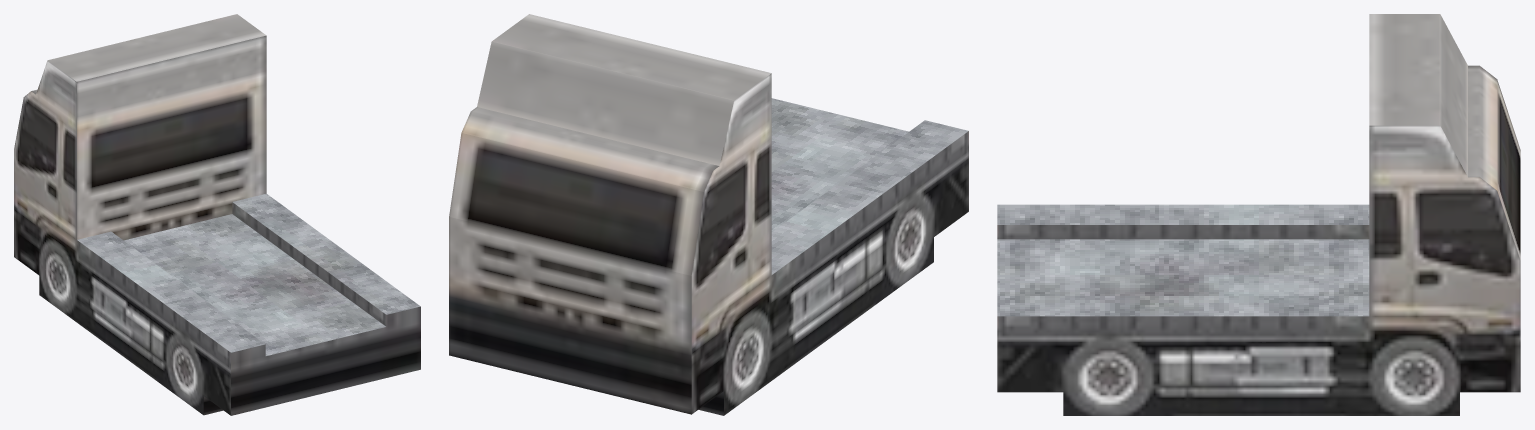
File: kenney-retro-urban-truck-flat.glb
3 renders of one model, left to right at view 1: azimuth 30°, elevation 25°; view 2: azimuth 150°, elevation 25°; view 3: azimuth 270°, elevation 25°, orthographic. The views are drawn at different scales.
Parts seen in each view (by area): view 1: truck-flat; view 2: truck-flat; view 3: truck-flat.
Part boxes in pixels (box(x1,y1,x2,y2)): truck-flat: box(14, 14, 420, 415); truck-flat: box(449, 14, 968, 415); truck-flat: box(997, 14, 1520, 415).
Bounding box in the file's own units: 0.8301 × 1.01 × 1.64.
2 materials, 2 textured.
